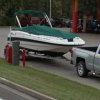Boat: (6, 6, 85, 61)
